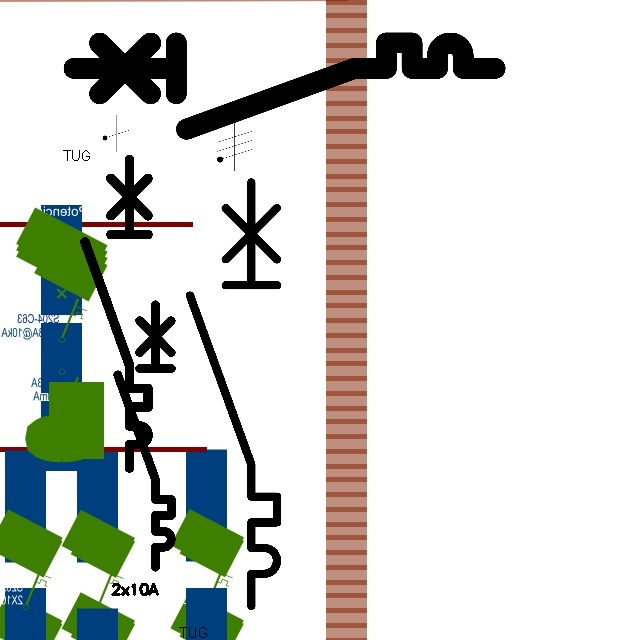interruptor_termomagnetico: (179, 171, 288, 616), (63, 32, 506, 140), (77, 151, 156, 475), (111, 298, 178, 574)
